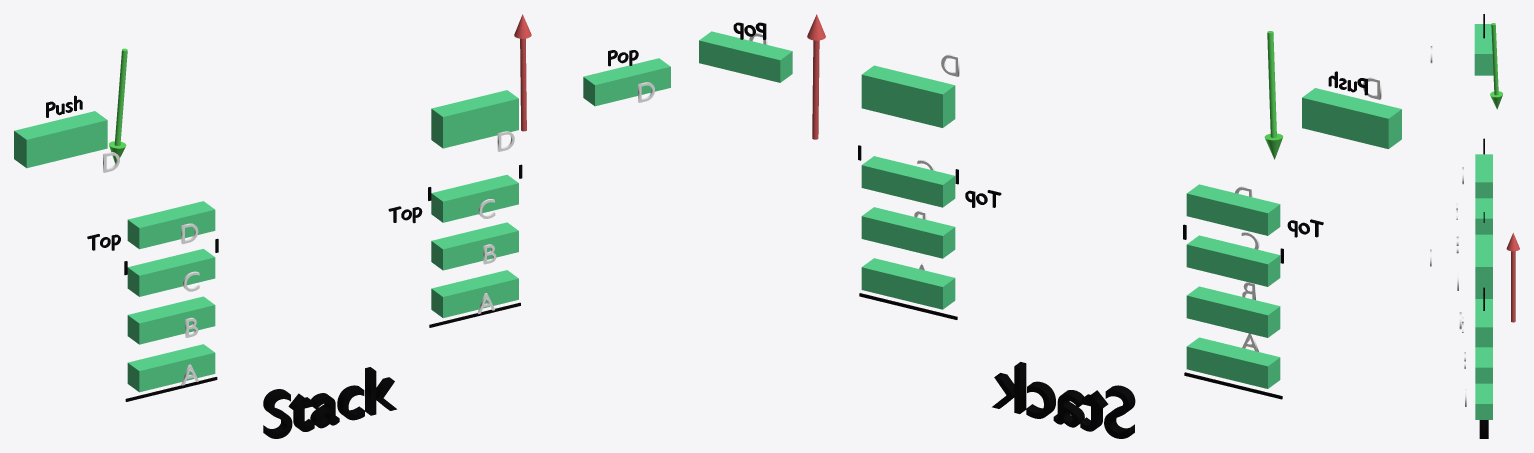
Rendered from stack.glb.
The picture shows the model from 3 angles, left to right: view 1: azimuth 30°, elevation 25°; view 2: azimuth 150°, elevation 25°; view 3: azimuth 270°, elevation 25°; orthographic projection. The views are drawn at different scales.
Parts seen in each view (by area): view 1: Text.014, incoming_D, outgoing_D, push_stack_item_C, pop_stack_item_C, push_stack_item_D, push_stack_item_B, push_stack_item_A, popped_D, pop_stack_item_A, pop_stack_item_B, down_arrow_shaft (+1 smaller); view 2: Text.014, outgoing_D, incoming_D, pop_stack_item_C, pop_stack_item_A, push_stack_item_D, push_stack_item_C, push_stack_item_B, push_stack_item_A, pop_stack_item_B, popped_D, up_arrow_shaft (+1 smaller); view 3: incoming_D, outgoing_D, push_stack_item_D, popped_D, push_stack_item_C, pop_stack_item_B, pop_stack_item_A, down_arrow_shaft, up_arrow_shaft, Text.014, push_stack_item_A.
Boxes of the visible parts, x1,y1,x2,y2 form: Text.014: [263, 367, 396, 438]; incoming_D: [14, 111, 107, 168]; outgoing_D: [431, 90, 518, 148]; push_stack_item_C: [127, 249, 215, 296]; pop_stack_item_C: [431, 174, 518, 222]; push_stack_item_D: [127, 201, 215, 249]; push_stack_item_B: [127, 296, 215, 344]; push_stack_item_A: [127, 344, 215, 392]; popped_D: [583, 58, 670, 106]; pop_stack_item_A: [431, 270, 518, 317]; pop_stack_item_B: [431, 222, 518, 270]; down_arrow_shaft: [514, 14, 531, 131]; Text.014: [992, 362, 1135, 438]; outgoing_D: [861, 65, 955, 127]; incoming_D: [1302, 88, 1401, 148]; pop_stack_item_C: [861, 156, 955, 207]; pop_stack_item_A: [861, 258, 955, 309]; push_stack_item_D: [1186, 184, 1280, 235]; push_stack_item_C: [1186, 235, 1280, 286]; push_stack_item_B: [1186, 286, 1280, 337]; push_stack_item_A: [1186, 337, 1280, 388]; pop_stack_item_B: [861, 207, 955, 258]; popped_D: [699, 31, 792, 82]; up_arrow_shaft: [1264, 31, 1283, 159]; incoming_D: [1474, 24, 1493, 75]; outgoing_D: [1475, 238, 1492, 290]; push_stack_item_D: [1475, 154, 1492, 198]; popped_D: [1475, 299, 1492, 343]; push_stack_item_C: [1475, 198, 1492, 234]; pop_stack_item_B: [1475, 347, 1492, 383]; pop_stack_item_A: [1475, 383, 1492, 419]; down_arrow_shaft: [1506, 233, 1519, 322]; up_arrow_shaft: [1490, 23, 1502, 109]; Text.014: [1479, 420, 1488, 438]; push_stack_item_A: [1475, 291, 1492, 298].
Bounding box in the file's own units: 12.73 × 7.89 × 2.02.
